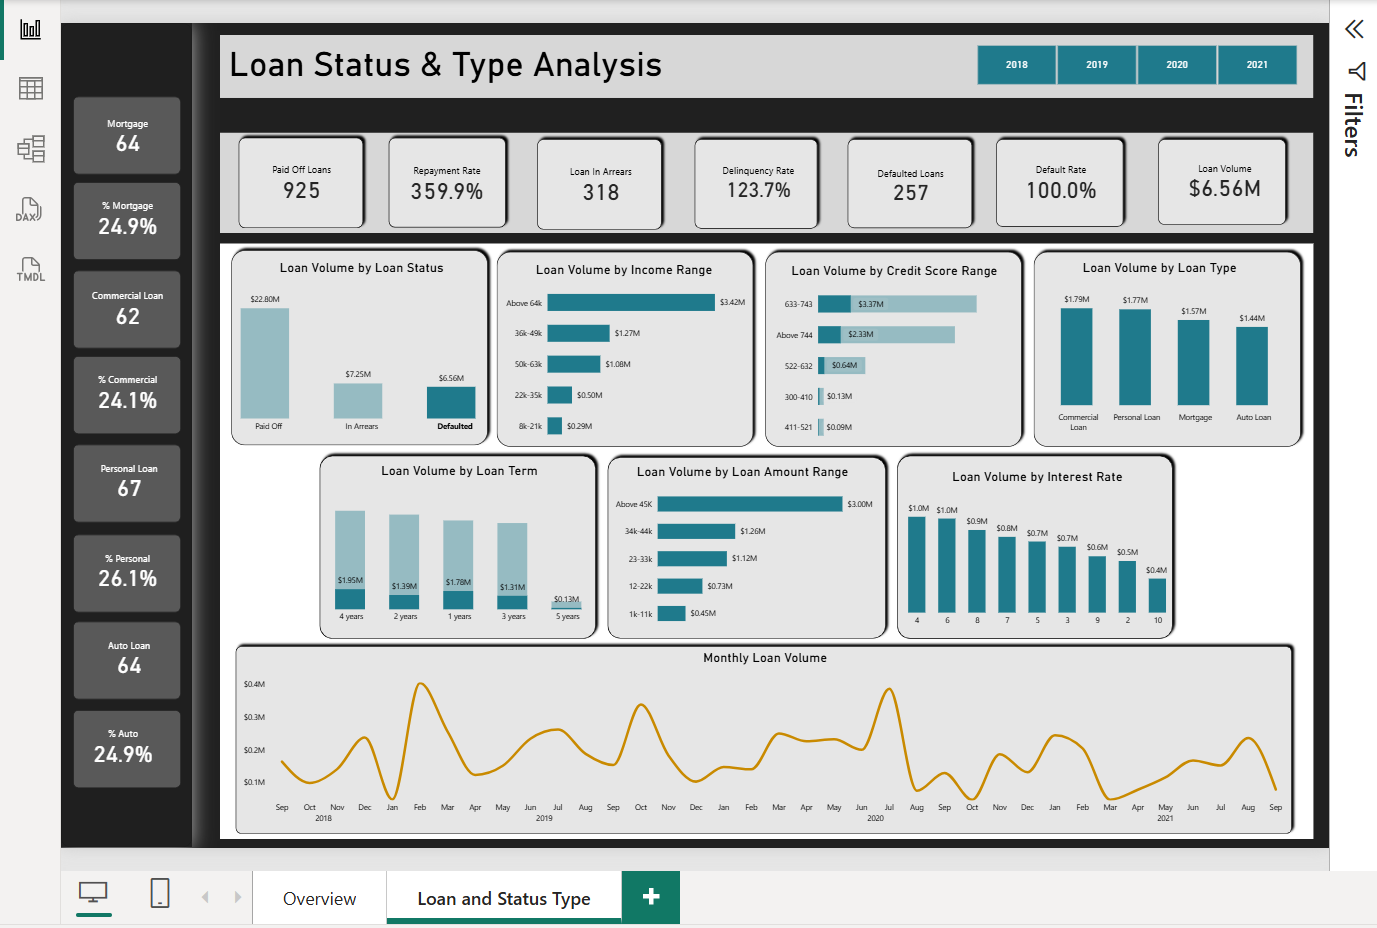

The dashboard page shown, as its layout file describes it:
{"tool":"powerbi","page":{"name":"Loan and Status Type","canvas":[2000,1300],"ordinal":1},"visuals":[{"type":"shape","box":[250.8,347.8,1724.8,939.3],"z":0},{"type":"shape","box":[250.8,18.9,1724.8,99.4],"z":1000},{"type":"shape","box":[250.8,172.7,1724.8,158.5],"z":2000},{"type":"shape","box":[267.4,974.8,1682.2,312.3],"z":3000},{"type":"shape","box":[272.5,172.5,212.7,159],"z":4000},{"type":"shape","box":[507.5,172.5,201.1,158],"z":5000},{"type":"shape","box":[742.5,175,212.7,159],"z":6000},{"type":"shape","box":[992.5,175,210,157.5],"z":7000},{"type":"shape","box":[1232.5,175,212.7,156.7],"z":8000},{"type":"shape","box":[1467.5,175,217.2,154.5],"z":9000},{"type":"shape","box":[1722.5,175,217.7,151.4],"z":11000},{"type":"cardVisual","fields":{"Data":["Measure Table.Paid Off Loans"]},"box":[287.5,195,182.2,118.3],"z":12000},{"type":"cardVisual","fields":{"Data":["Measure Table.Repayment Rate"]},"box":[522.5,190,172.7,130.1],"z":13000},{"type":"cardVisual","fields":{"Data":["Measure Table.Loan In Arrears"]},"box":[755,195,194,125.4],"z":14000},{"type":"cardVisual","fields":{"Data":["Measure Table.Delinquency Rate"]},"box":[995,195,208.2,118.3],"z":15000},{"type":"cardVisual","fields":{"Data":["Measure Table.Defaulted Loans"]},"box":[1240,210,201.1,94.6],"z":16000},{"type":"cardVisual","fields":{"Data":["Measure Table.Default Rate"]},"box":[1485,192.5,183.6,123.1],"z":17000},{"type":"cardVisual","fields":{"Data":["Measure Table.Loan Volume Display"]},"box":[1732.5,192.5,208.2,118.3],"z":19000},{"type":"lineChart","title":"Monthly Loan Volume","fields":{"Category":["Date Table.Year","Date Table.Month Name"],"Y":["Measure Table.Loan Volume"]},"box":[272.5,975,1677.5,312.5],"z":20000},{"type":"slicer","fields":{"Values":["Date Table.Year"]},"box":[1424.3,33.1,544.2,66.2],"z":21000},{"type":"shape","box":[0,0,206.9,1300],"z":22000},{"type":"shape","title":"Loan Status & Type Analysis","box":[250.8,33.1,712.1,80.4],"z":23000},{"type":"shape","box":[17.9,116.4,170,123],"z":24000},{"type":"shape","box":[17.9,250.8,170,123],"z":25000},{"type":"shape","box":[17.9,389.6,170,123],"z":26000},{"type":"shape","box":[17.9,526.1,170.2,123.1],"z":27000},{"type":"shape","box":[17.9,664.9,170,123],"z":28000},{"type":"shape","box":[17.9,806,170,123],"z":29000},{"type":"shape","box":[17.9,944.8,170,123],"z":30000},{"type":"shape","box":[17.9,1083.6,170.2,123.1],"z":31000},{"type":"cardVisual","fields":{"Data":["Measure Table.Mortgage"]},"box":[14.2,120.7,182.2,118.3],"z":32000},{"type":"cardVisual","fields":{"Data":["Measure Table.% Mortgage"]},"box":[14.2,250.8,182.2,118.3],"z":33000},{"type":"cardVisual","fields":{"Data":["Measure Table.Commercial Loan"]},"box":[14.2,392.7,182.2,118.3],"z":34000},{"type":"cardVisual","fields":{"Data":["Measure Table.% Commercial"]},"box":[14.2,525.2,182.2,118.3],"z":35000},{"type":"cardVisual","fields":{"Data":["Measure Table.Personal Loan"]},"box":[16.6,664.8,182.2,118.3],"z":36000},{"type":"cardVisual","fields":{"Data":["Measure Table.% Personal Loan"]},"box":[14.2,806.8,182.2,118.3],"z":37000},{"type":"cardVisual","fields":{"Data":["Measure Table.Auto Loan"]},"box":[16.6,944,182.2,118.3],"z":38000},{"type":"cardVisual","fields":{"Data":["Measure Table.% Auto Loan"]},"box":[7.1,1083.6,182.2,118.3],"z":39000},{"type":"shape","box":[260.3,350.2,421.1,324.1],"z":40000},{"type":"columnChart","title":"Loan Volume by Loan Status","fields":{"Category":["loan dataset.Loan Status"],"Y":["Measure Table.Loan Volume"]},"box":[267.4,359.6,414,305.2],"z":41000},{"type":"shape","box":[679,352.5,421.1,324.1],"z":42000},{"type":"shape","box":[1102.5,352.5,421.1,324.1],"z":43000},{"type":"shape","box":[1526,352.5,437.7,324.1],"z":44000},{"type":"shape","box":[400,675,451.9,305.2],"z":45000},{"type":"shape","box":[854.4,675.6,455,302.5],"z":46000},{"type":"shape","box":[1310,674.4,451,305],"z":47000},{"type":"clusteredBarChart","title":"Loan Volume by Income Range","fields":{"Category":["loan dataset.Income Range"],"Y":["Measure Table.Loan Volume"]},"box":[681.4,362,414,305.2],"z":48000},{"type":"clusteredBarChart","title":"Loan Volume by Credit Score Range","fields":{"Category":["loan dataset.Credit Score Range"],"Y":["Measure Table.Loan Volume Display"]},"box":[1107.5,365,415,305],"z":49000},{"type":"columnChart","title":"Loan Volume by Loan Type","fields":{"Category":["loan dataset.Loan Type"],"Y":["Measure Table.Loan Volume"]},"box":[1525,360,414,305.2],"z":50000},{"type":"columnChart","title":"Loan Volume by Loan Term","fields":{"Category":["loan dataset.Loan Term"],"Y":["Measure Table.Loan Volume"]},"box":[415.6,680,424.4,286.7],"z":51000},{"type":"columnChart","title":"Loan Volume by Interest Rate","fields":{"Category":["loan dataset.Interest Rate New"],"Y":["Measure Table.Loan Volume"]},"box":[1320,687.5,440,282.5],"z":52000},{"type":"clusteredBarChart","title":"Loan Volume by Loan Amount Range","fields":{"Category":["loan dataset.Loan Amount Range"],"Y":["Measure Table.Loan Volume"]},"box":[855,682.5,442.5,280],"z":53000}]}

Visuals, with their boxes on the page's 2000x1300 design canvas (x1, y1, x2, y2). These are canvas units, not pixel positions in the 1377x928 screenshot, which may show the page scaled, cropped or inside an application window:
shape: bbox(251, 348, 1976, 1287)
shape: bbox(251, 19, 1976, 118)
shape: bbox(251, 173, 1976, 331)
shape: bbox(267, 975, 1950, 1287)
shape: bbox(272, 172, 485, 332)
shape: bbox(508, 172, 709, 330)
shape: bbox(742, 175, 955, 334)
shape: bbox(992, 175, 1202, 332)
shape: bbox(1232, 175, 1445, 332)
shape: bbox(1468, 175, 1685, 330)
shape: bbox(1722, 175, 1940, 326)
cardVisual - Measure Table.Paid Off Loans: bbox(288, 195, 470, 313)
cardVisual - Measure Table.Repayment Rate: bbox(522, 190, 695, 320)
cardVisual - Measure Table.Loan In Arrears: bbox(755, 195, 949, 320)
cardVisual - Measure Table.Delinquency Rate: bbox(995, 195, 1203, 313)
cardVisual - Measure Table.Defaulted Loans: bbox(1240, 210, 1441, 305)
cardVisual - Measure Table.Default Rate: bbox(1485, 192, 1669, 316)
cardVisual - Measure Table.Loan Volume Display: bbox(1732, 192, 1941, 311)
"Monthly Loan Volume" lineChart: bbox(272, 975, 1950, 1288)
slicer - Date Table.Year: bbox(1424, 33, 1968, 99)
shape: bbox(0, 0, 207, 1300)
"Loan Status & Type Analysis" shape: bbox(251, 33, 963, 114)
shape: bbox(18, 116, 188, 239)
shape: bbox(18, 251, 188, 374)
shape: bbox(18, 390, 188, 513)
shape: bbox(18, 526, 188, 649)
shape: bbox(18, 665, 188, 788)
shape: bbox(18, 806, 188, 929)
shape: bbox(18, 945, 188, 1068)
shape: bbox(18, 1084, 188, 1207)
cardVisual - Measure Table.Mortgage: bbox(14, 121, 196, 239)
cardVisual - Measure Table.% Mortgage: bbox(14, 251, 196, 369)
cardVisual - Measure Table.Commercial Loan: bbox(14, 393, 196, 511)
cardVisual - Measure Table.% Commercial: bbox(14, 525, 196, 644)
cardVisual - Measure Table.Personal Loan: bbox(17, 665, 199, 783)
cardVisual - Measure Table.% Personal Loan: bbox(14, 807, 196, 925)
cardVisual - Measure Table.Auto Loan: bbox(17, 944, 199, 1062)
cardVisual - Measure Table.% Auto Loan: bbox(7, 1084, 189, 1202)
shape: bbox(260, 350, 681, 674)
"Loan Volume by Loan Status" columnChart: bbox(267, 360, 681, 665)
shape: bbox(679, 352, 1100, 677)
shape: bbox(1102, 352, 1524, 677)
shape: bbox(1526, 352, 1964, 677)
shape: bbox(400, 675, 852, 980)
shape: bbox(854, 676, 1309, 978)
shape: bbox(1310, 674, 1761, 979)
"Loan Volume by Income Range" clusteredBarChart: bbox(681, 362, 1095, 667)
"Loan Volume by Credit Score Range" clusteredBarChart: bbox(1108, 365, 1522, 670)
"Loan Volume by Loan Type" columnChart: bbox(1525, 360, 1939, 665)
"Loan Volume by Loan Term" columnChart: bbox(416, 680, 840, 967)
"Loan Volume by Interest Rate" columnChart: bbox(1320, 688, 1760, 970)
"Loan Volume by Loan Amount Range" clusteredBarChart: bbox(855, 682, 1298, 962)
